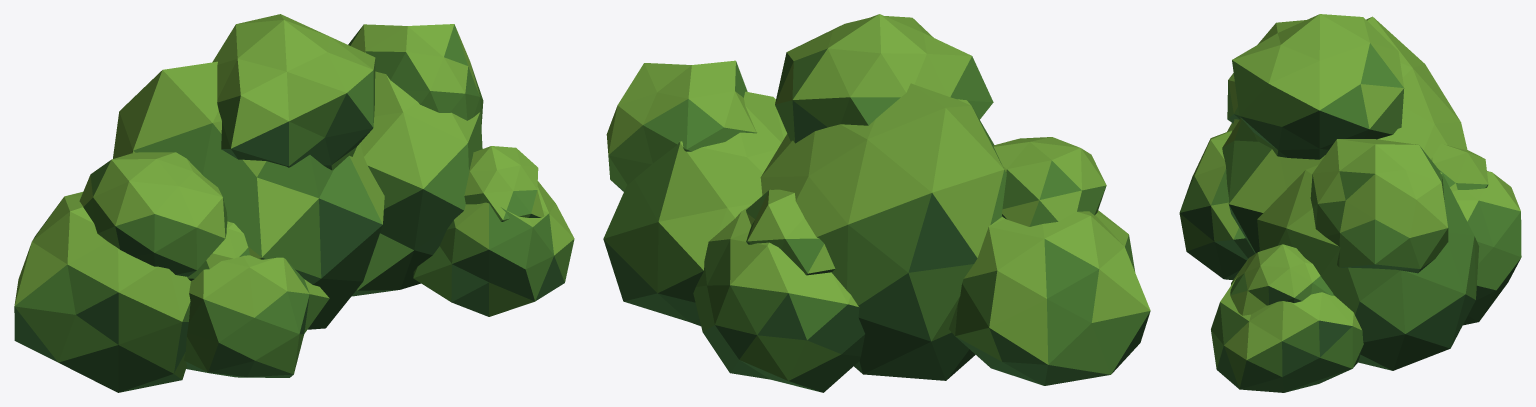
File: F08_BushClusterLarge.glb
The picture shows the model from 3 angles, left to right: view 1: azimuth 30°, elevation 25°; view 2: azimuth 150°, elevation 25°; view 3: azimuth 270°, elevation 25°; orthographic projection. The views are drawn at different scales.
Parts seen in each view (by area): view 1: F08_BushClusterLarge; view 2: F08_BushClusterLarge; view 3: F08_BushClusterLarge.
Boxes of the visible parts, left/top/right/bottom form: F08_BushClusterLarge: left=14, top=14, right=574, bottom=392; F08_BushClusterLarge: left=603, top=14, right=1150, bottom=392; F08_BushClusterLarge: left=1179, top=14, right=1521, bottom=392.
Bounding box in the file's own units: 3.87 × 2.26 × 2.38.
